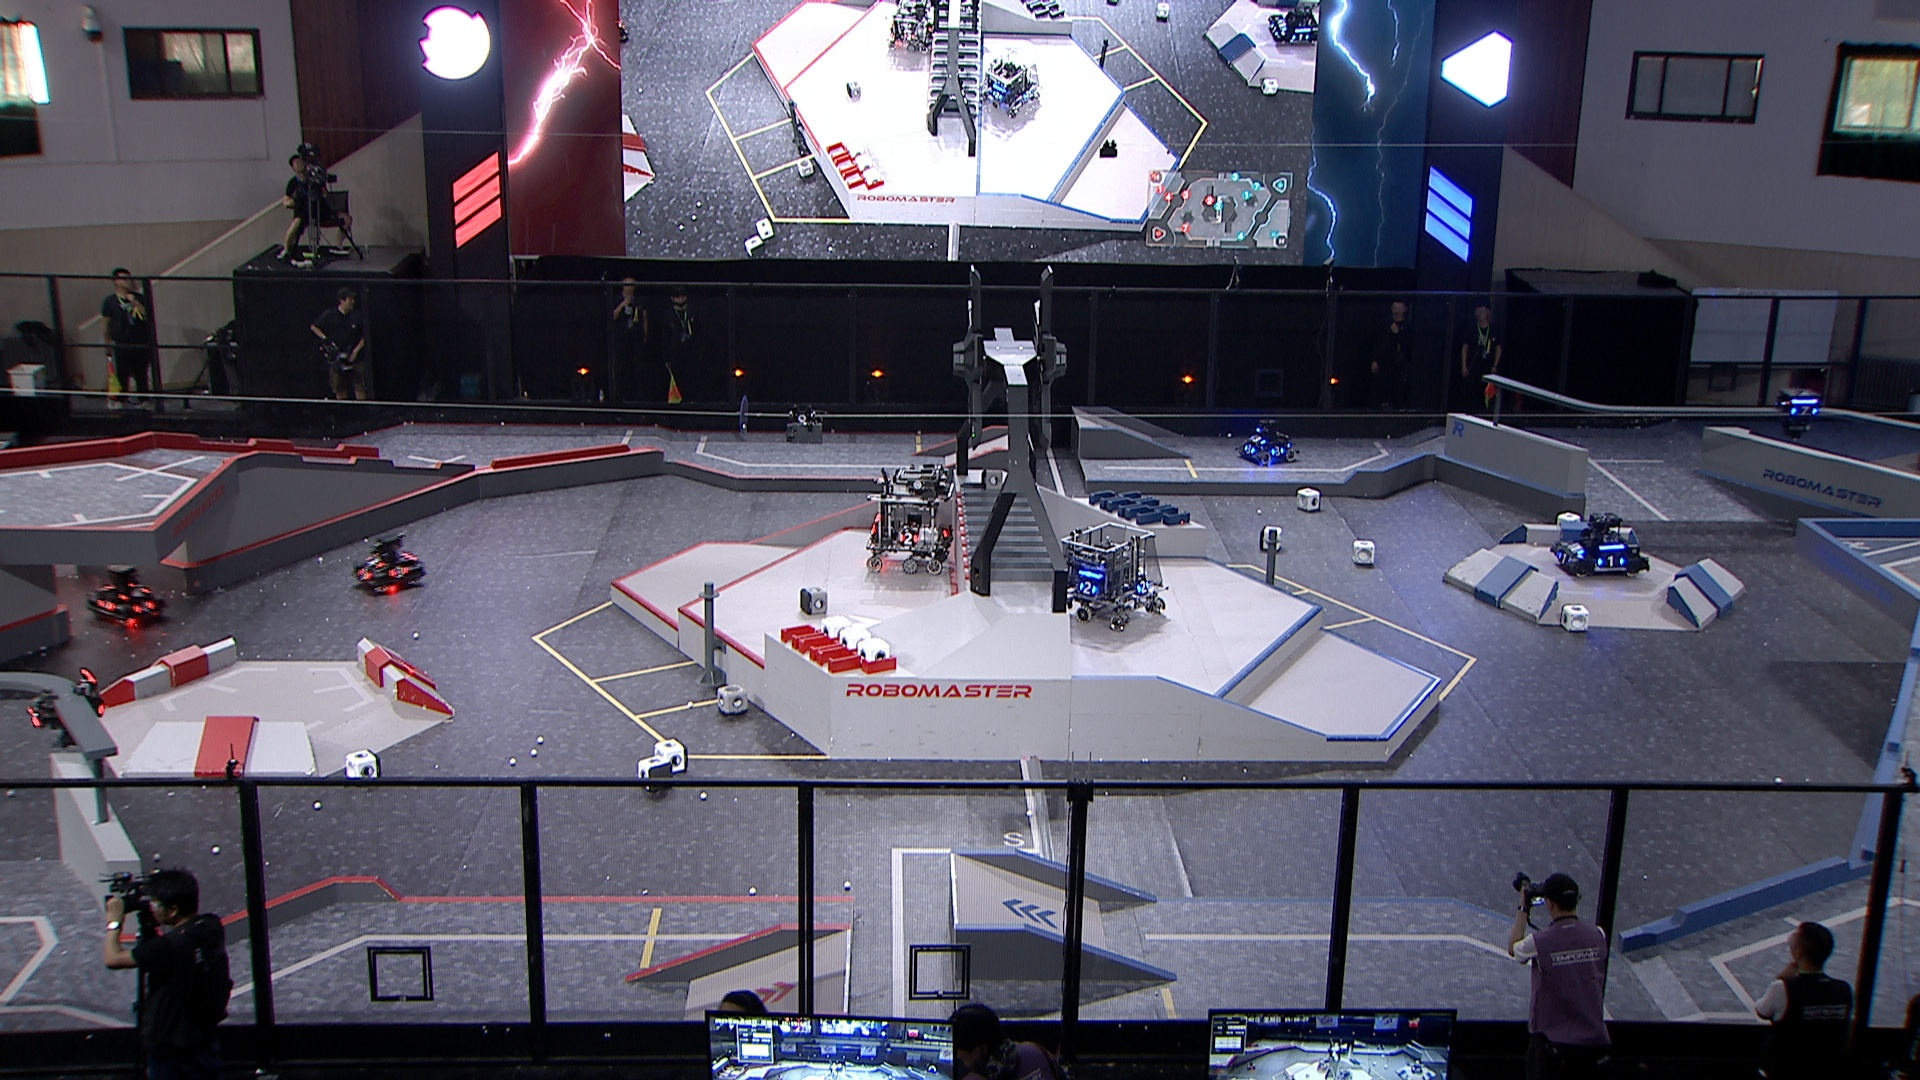armor: (119, 585, 153, 599), (24, 705, 44, 728), (131, 597, 154, 615), (897, 529, 920, 546), (1598, 553, 1626, 567), (1077, 579, 1098, 597), (363, 553, 386, 568), (1789, 404, 1817, 417), (1567, 541, 1588, 556), (386, 564, 411, 578), (1134, 578, 1153, 595), (95, 597, 116, 611), (1247, 433, 1269, 446), (357, 567, 375, 583), (1269, 443, 1287, 458), (1556, 553, 1575, 567), (1242, 442, 1257, 458)
car: (1058, 520, 1171, 636), (860, 462, 955, 576), (1549, 510, 1654, 578), (82, 559, 167, 628), (353, 531, 425, 595), (1232, 415, 1300, 465)
ignore: (978, 59, 1039, 117)
watcher: (20, 666, 105, 752), (1774, 384, 1825, 443)
